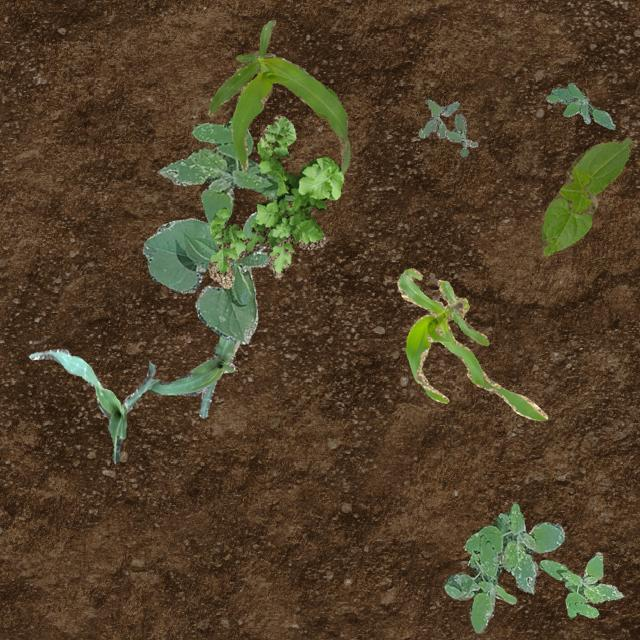crop: (396, 268, 546, 420), (208, 19, 348, 172), (142, 210, 268, 342), (29, 348, 154, 462), (540, 136, 632, 256), (146, 334, 238, 416)
weed: (208, 114, 342, 288), (444, 502, 564, 632), (158, 117, 292, 226), (538, 552, 622, 616), (418, 98, 477, 156), (544, 81, 614, 128)
